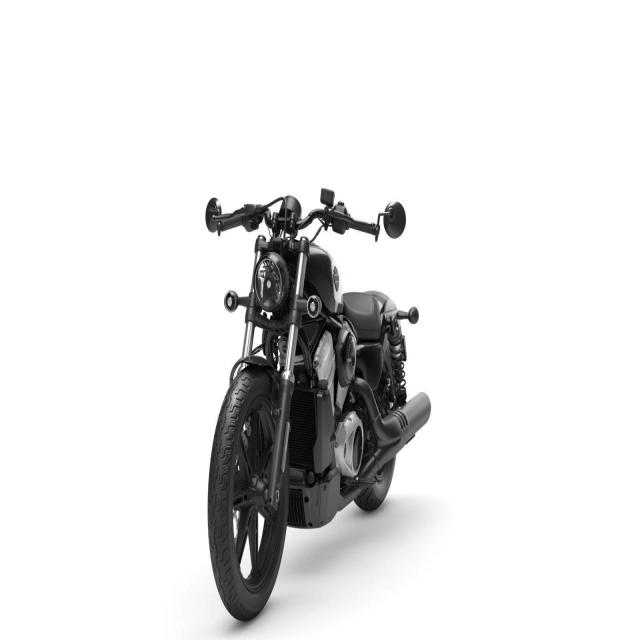Motorcycle: (206, 188, 431, 620)
